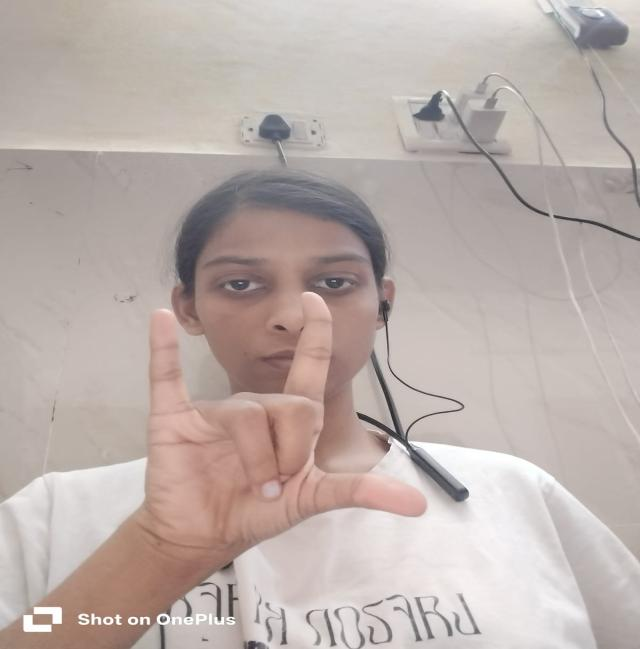I Love You: (136, 285, 441, 565)
